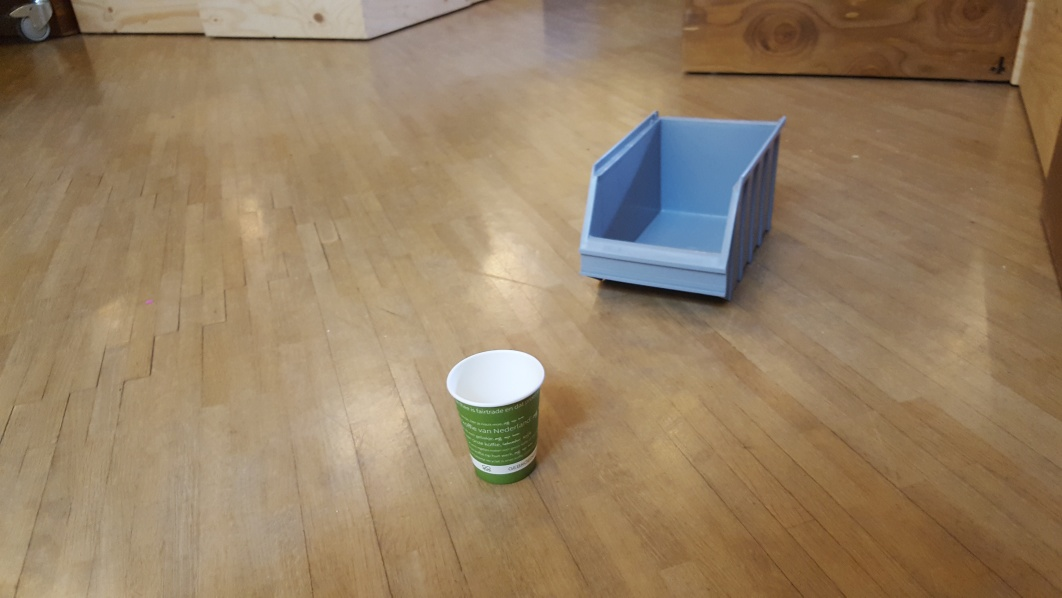cup: (445, 347, 549, 487)
tray: (577, 109, 790, 302)
